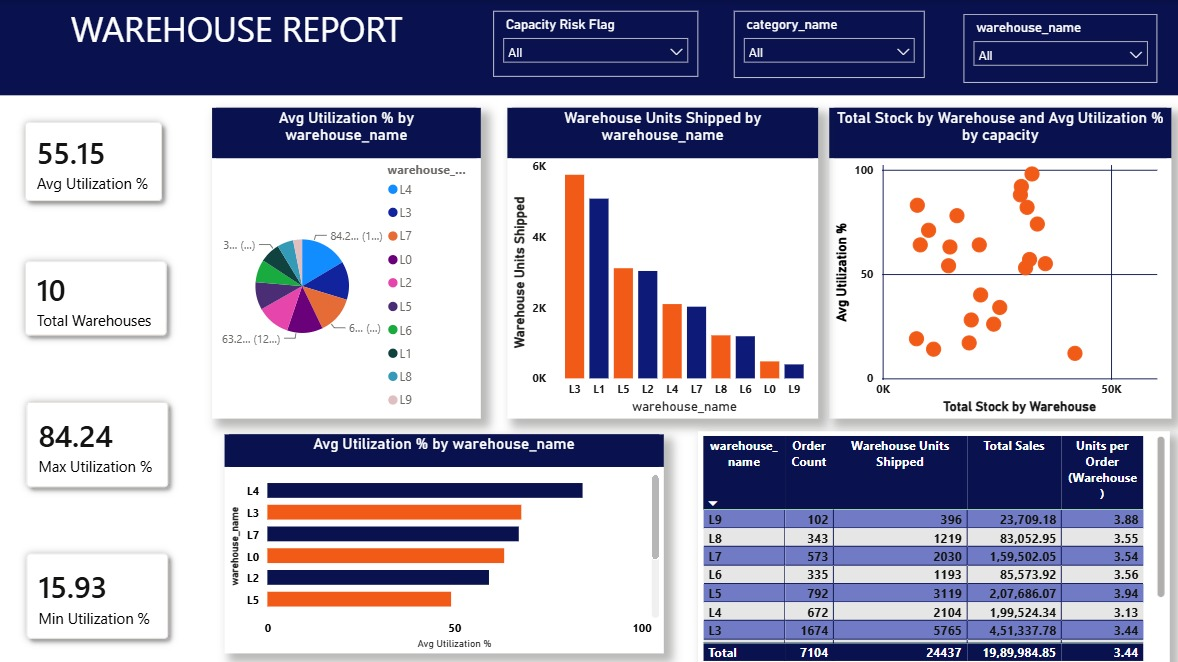

What the dashboard file says about the page in this screenshot:
{"tool":"powerbi","page":{"name":"Page 6","canvas":[1280,720],"ordinal":5},"visuals":[{"type":"cardVisual","fields":{"Data":["Dim_Warehouse.Total Warehouses"]},"box":[0,140.2,211.2,138.5],"z":0},{"type":"cardVisual","fields":{"Data":["Dim_Warehouse.Max Utilization %"]},"box":[0,337.8,211.2,150.3],"z":1000},{"type":"cardVisual","fields":{"Data":["Dim_Warehouse.Min Utilization %"]},"box":[0,540.5,211.2,150.3],"z":2000},{"type":"cardVisual","fields":{"Data":["Dim_Warehouse.Avg Utilization %"]},"box":[234.8,140.2,206.1,143.6],"z":3000},{"type":"barChart","fields":{"Y":["Dim_Warehouse.Avg Utilization %"],"Category":["Dim_Warehouse.warehouse_name"]},"box":[246.6,483.1,305.7,236.5],"z":4000},{"type":"scatterChart","fields":{"X":["Dim_Warehouse.Total Stock by Warehouse"],"Y":["Dim_Warehouse.Avg Utilization %"],"Category":["Dim_Warehouse.capacity"]},"box":[932.4,140.2,336.2,307.4],"z":5000},{"type":"pieChart","fields":{"Y":["Dim_Warehouse.Avg Utilization %"],"Category":["Dim_Warehouse.warehouse_name"]},"box":[234.8,293.9,224.7,180.7],"z":6000},{"type":"columnChart","fields":{"Y":["Dim_Warehouse.Warehouse Units Shipped"],"Category":["Dim_Warehouse.warehouse_name"]},"box":[567.6,412.2,336.2,307.4],"z":7000},{"type":"slicer","fields":{"Values":["Dim_Warehouse.warehouse_name"]},"box":[932.4,464.5,336.2,74.3],"z":8000},{"type":"slicer","fields":{"Values":["Dim_Warehouse.Capacity Risk Flag"]},"box":[934.1,554.1,336.2,70.9],"z":9000},{"type":"slicer","fields":{"Values":["Fact_table.category_name"]},"box":[932.4,647,336.2,72.6],"z":10000},{"type":"tableEx","fields":{"Values":["Dim_Warehouse.warehouse_name","Fact_table.Order Count","Dim_Warehouse.Warehouse Units Shipped","Fact_table.Total Sales","Dim_Warehouse.Units per Order (Warehouse)"]},"box":[473,140.2,442.6,253.4],"z":11000},{"type":"textbox","box":[10.1,0,1270.3,123.3],"z":12000}]}

Visuals, with their boxes in screenshot pixels (x1, y1, x2, y2), scaled from the page's 1280x720 canvas onto the 1178x662 screenshot:
cardVisual - Dim_Warehouse.Total Warehouses: locate(0, 129, 194, 256)
cardVisual - Dim_Warehouse.Max Utilization %: locate(0, 311, 194, 449)
cardVisual - Dim_Warehouse.Min Utilization %: locate(0, 497, 194, 635)
cardVisual - Dim_Warehouse.Avg Utilization %: locate(216, 129, 406, 261)
barChart - Dim_Warehouse.Avg Utilization % x Dim_Warehouse.warehouse_name: locate(227, 444, 508, 661)
scatterChart - Dim_Warehouse.Total Stock by Warehouse x Dim_Warehouse.Avg Utilization %: locate(858, 129, 1168, 412)
pieChart - Dim_Warehouse.Avg Utilization % x Dim_Warehouse.warehouse_name: locate(216, 270, 423, 436)
columnChart - Dim_Warehouse.Warehouse Units Shipped x Dim_Warehouse.warehouse_name: locate(522, 379, 832, 661)
slicer - Dim_Warehouse.warehouse_name: locate(858, 427, 1168, 495)
slicer - Dim_Warehouse.Capacity Risk Flag: locate(860, 509, 1169, 575)
slicer - Fact_table.category_name: locate(858, 595, 1168, 661)
tableEx - Dim_Warehouse.warehouse_name x Fact_table.Order Count: locate(435, 129, 843, 362)
textbox: locate(9, 0, 1177, 113)
